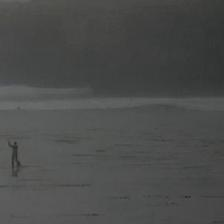surfer: (8, 141, 20, 164), (16, 106, 22, 111)
